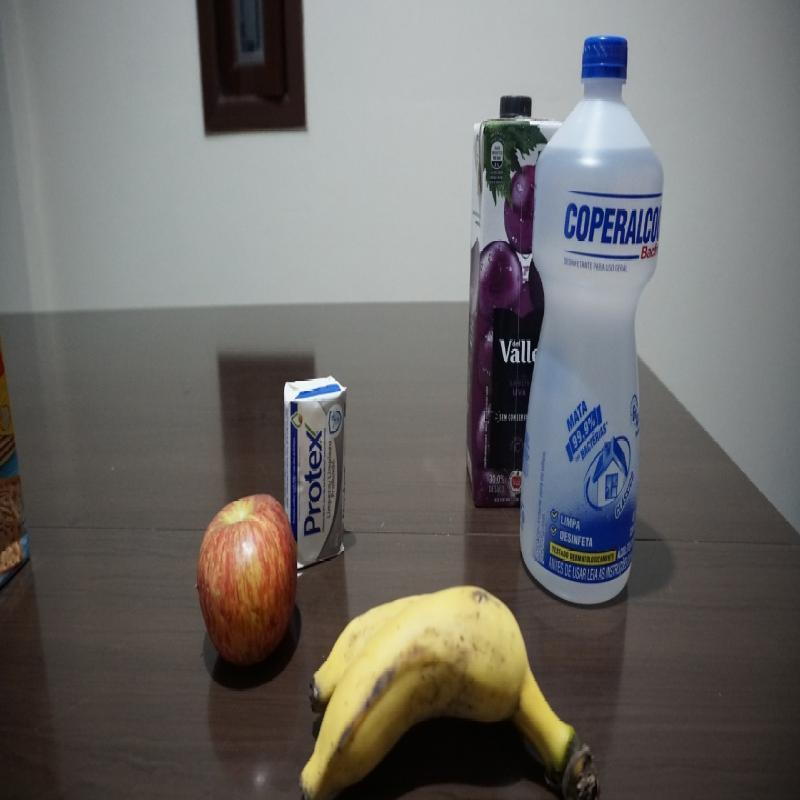Alcohol Bottle: (518, 34, 664, 608)
Apple: (197, 493, 299, 675)
Banana: (300, 584, 599, 798)
Chocolate Powder: (284, 374, 346, 572)
Cracker: (1, 325, 32, 590)
